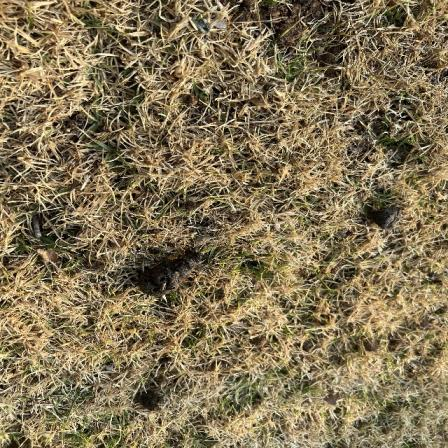dog-poop: (133, 241, 211, 293)
